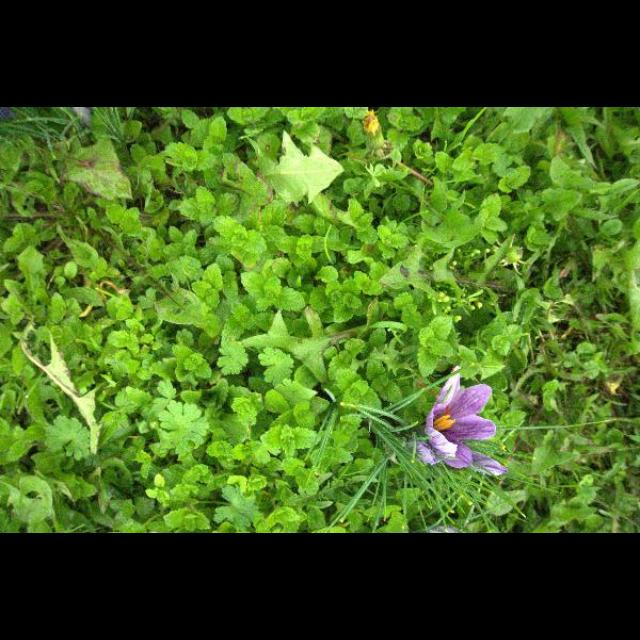flower: (425, 367, 497, 469), (468, 450, 509, 478)
